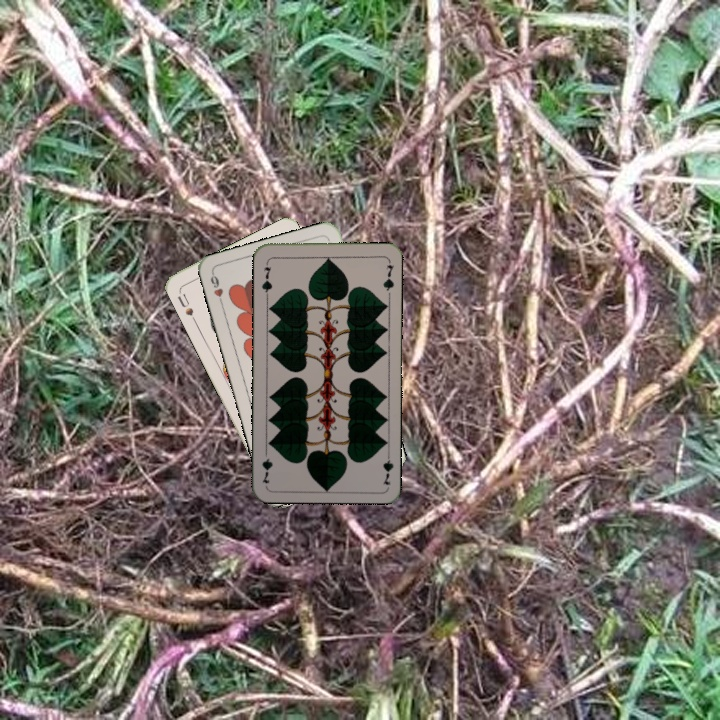G7: (258, 257, 275, 298), (379, 447, 396, 487)
H9: (206, 269, 226, 309)
SU: (173, 286, 199, 324)
